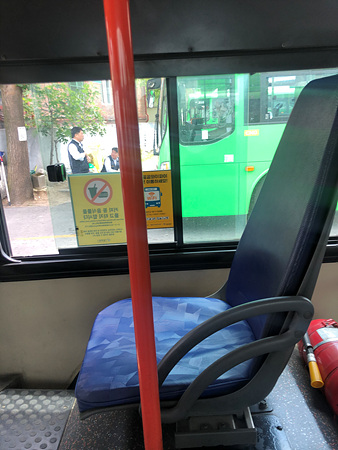seat: (81, 72, 331, 411)
